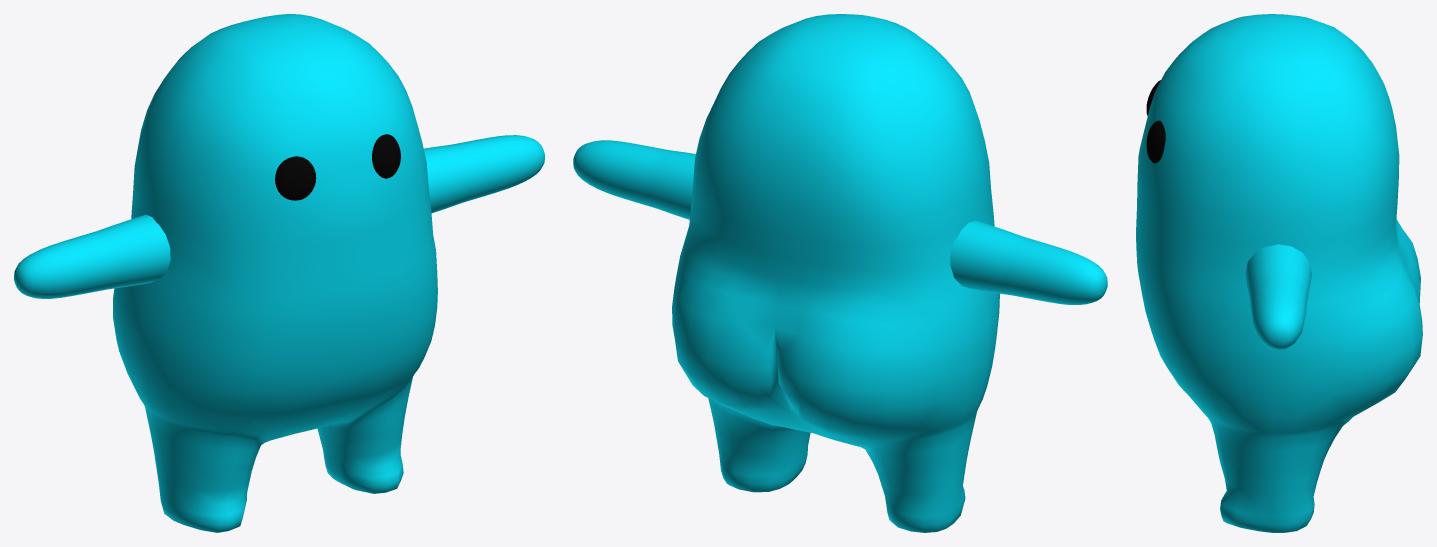
Rendered from Character.only.fbx.
3 renders of one model, left to right at view 1: azimuth 30°, elevation 25°; view 2: azimuth 150°, elevation 25°; view 3: azimuth 270°, elevation 25°, orthographic. The views are drawn at different scales.
Parts seen in each view (by area): view 1: Body, Arm; view 2: Body, Arm; view 3: Body, Arm.
Boxes of the visible parts, x1=… form: Body: x1=113, y1=14, x2=437, y2=532; Arm: x1=14, y1=135, x2=544, y2=298; Body: x1=672, y1=14, x2=999, y2=532; Arm: x1=573, y1=140, x2=1107, y2=304; Body: x1=1136, y1=14, x2=1422, y2=532; Arm: x1=1245, y1=244, x2=1311, y2=350.
Size of the model in its own units: 98.77 by 83.53 by 48.09.
